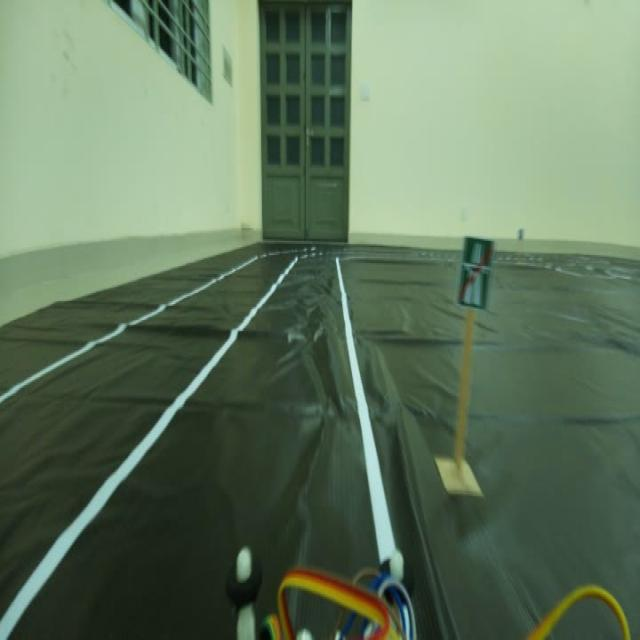highway_exit: (451, 220, 497, 312)
